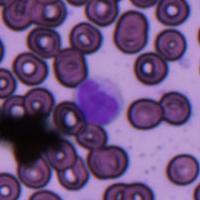M: (74, 77, 122, 125)
